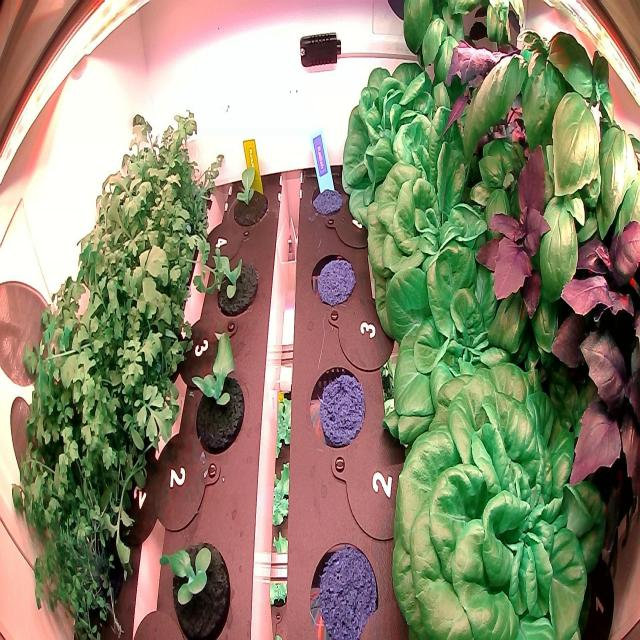Ready: (384, 365, 602, 639), (376, 219, 552, 449), (360, 130, 526, 340), (339, 38, 485, 225)
pod: (305, 537, 380, 637), (300, 360, 369, 454), (308, 245, 359, 318), (309, 171, 348, 227)
young: (158, 525, 238, 640), (188, 328, 253, 465), (207, 225, 262, 325), (223, 155, 276, 237)
